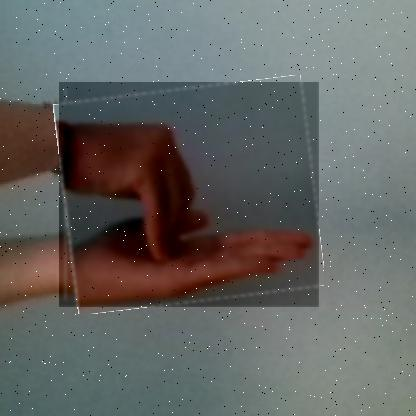Z: (59, 82, 320, 308)
